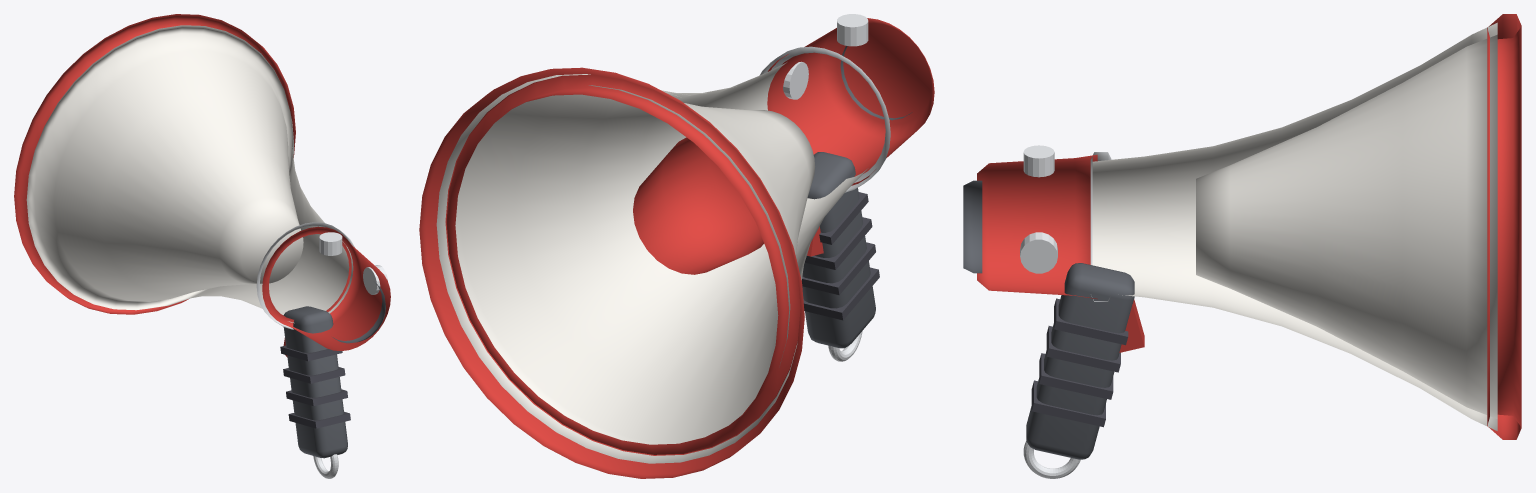
Rendered from megaphone.glb.
The picture shows the model from 3 angles, left to right: view 1: azimuth 30°, elevation 25°; view 2: azimuth 150°, elevation 25°; view 3: azimuth 270°, elevation 25°; orthographic projection. The views are drawn at different scales.
Parts seen in each view (by area): view 1: MegaphoneBody; view 2: MegaphoneBody; view 3: MegaphoneBody.
Boxes of the visible parts, left/top/right/bottom form: MegaphoneBody: left=14, top=14, right=390, bottom=478; MegaphoneBody: left=419, top=14, right=934, bottom=478; MegaphoneBody: left=963, top=14, right=1521, bottom=478.
Bounding box in the file's own units: 0.248 × 0.285 × 0.324.
